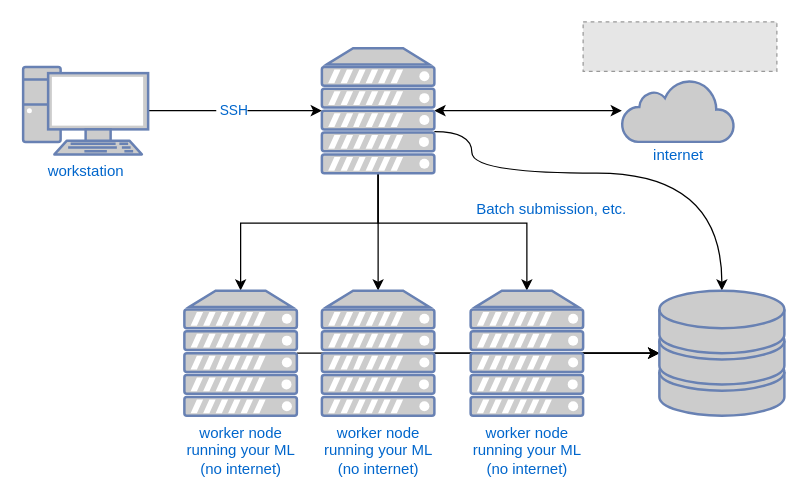
Some shapes in this 806 by 500 pixel diagram are drawn without their labels. Grey dashed boxes stand in for pictures. The centre of each missing label's shape, as x and y in pixels:
login node: point 377,110
Shared file system: point 721,352
